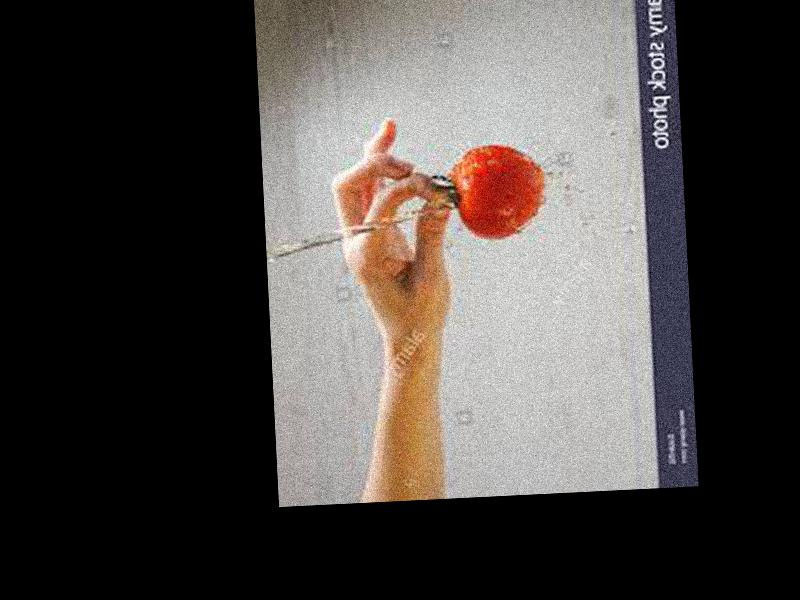Tomato: (452, 145, 548, 243)
